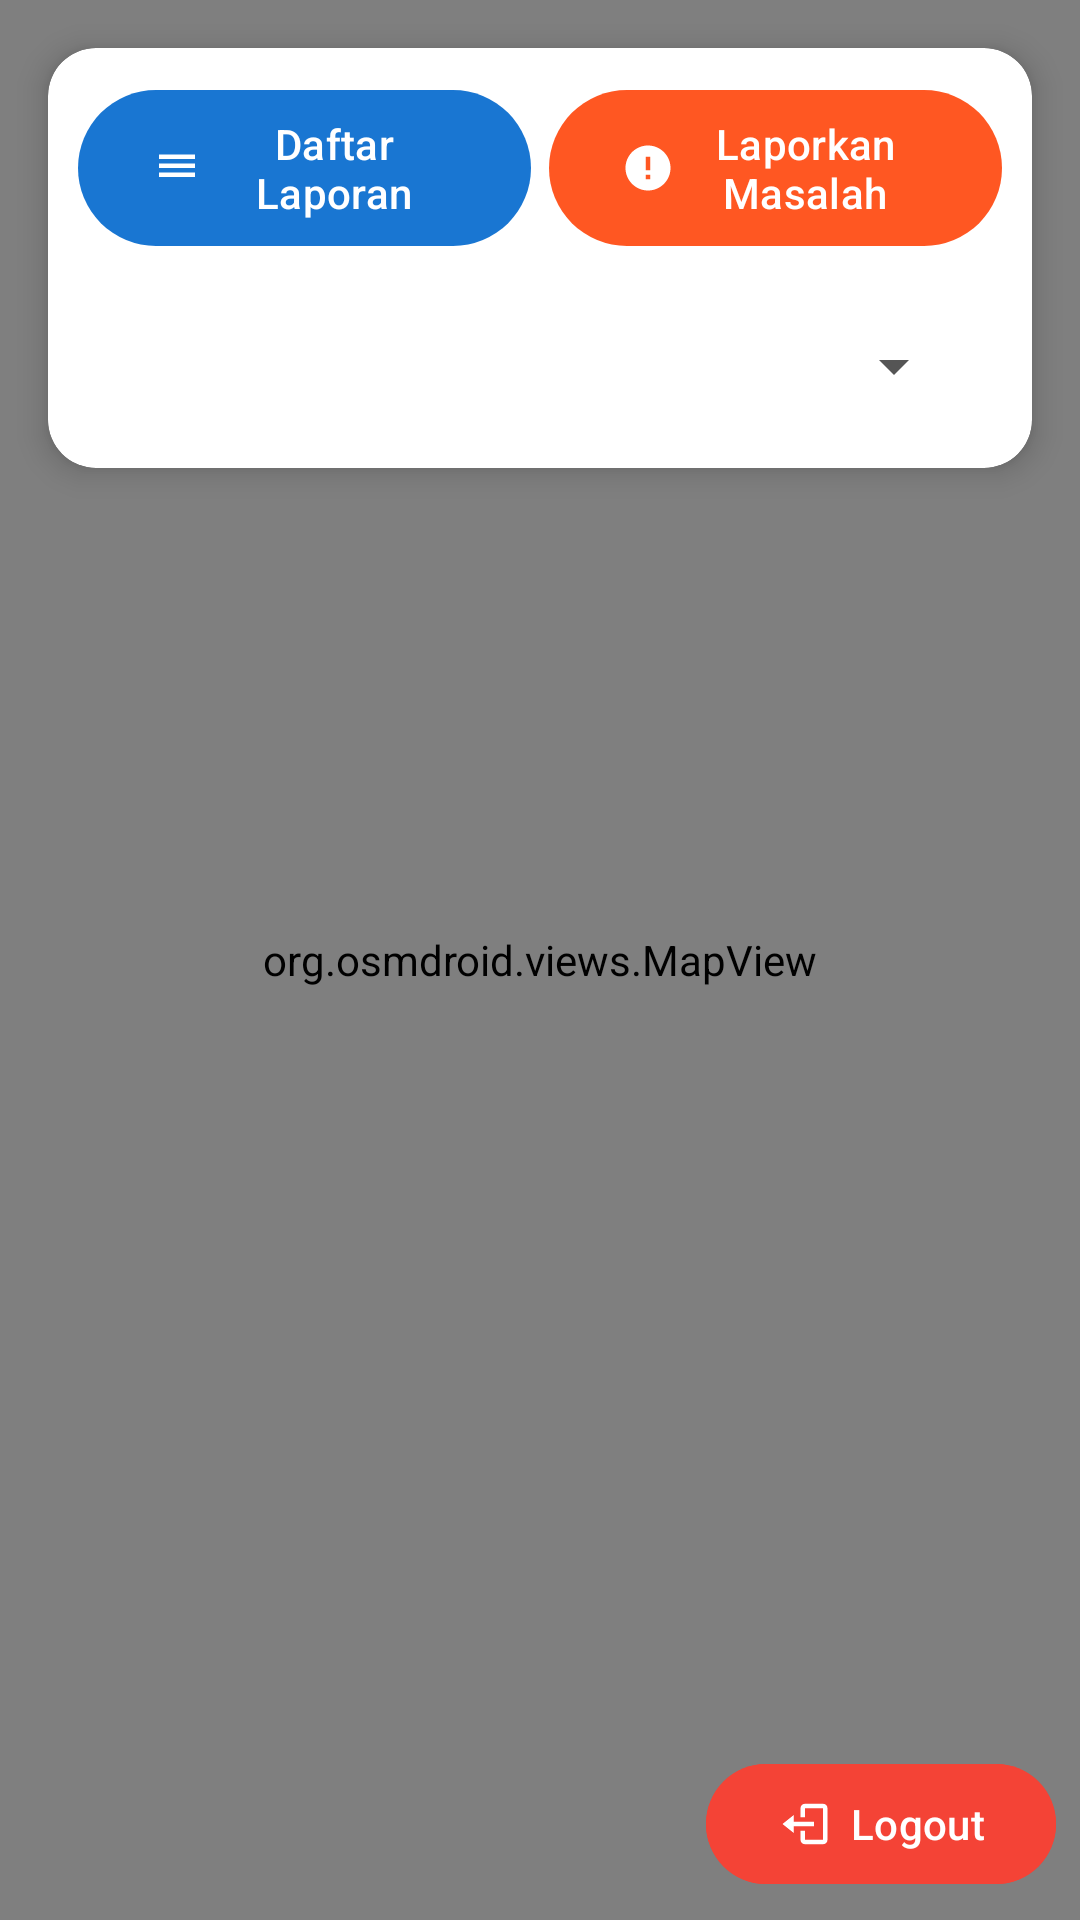

Named icons in this screenshot (1080w x 1920h) and their bounding boxes, rect(x1, y1, x2, y2):
arrow drop down: rect(879, 360, 909, 375)
